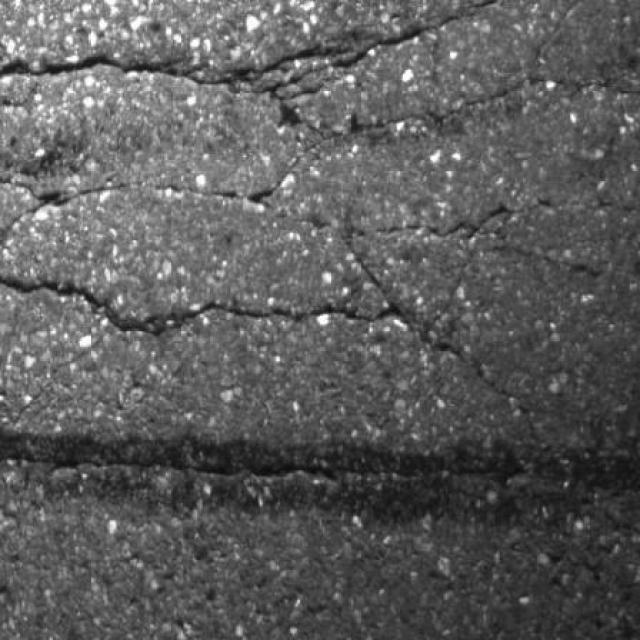Crack: (0, 210, 558, 398), (151, 74, 640, 207), (262, 0, 500, 102), (0, 55, 258, 89), (372, 196, 555, 240), (1, 179, 142, 228), (531, 0, 583, 61), (517, 404, 555, 442), (1, 84, 38, 109), (560, 264, 604, 278)
